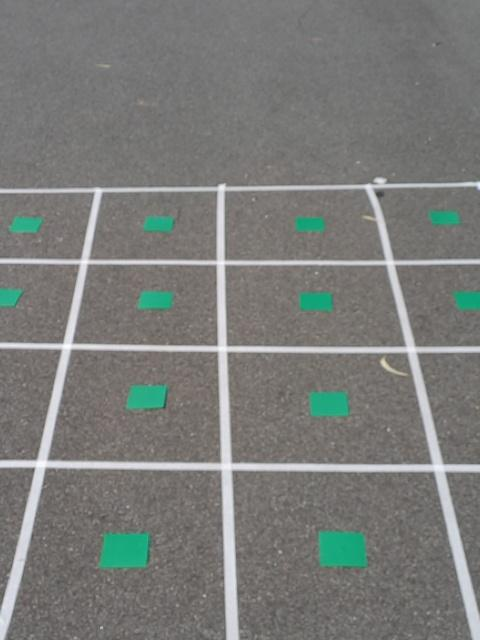weed: (97, 531, 151, 571), (317, 529, 369, 570), (308, 389, 349, 419), (125, 384, 168, 412), (298, 290, 335, 314), (136, 290, 174, 312), (8, 216, 44, 235), (293, 214, 327, 233), (451, 288, 480, 309), (141, 215, 176, 232), (427, 208, 460, 225), (0, 285, 25, 306)
